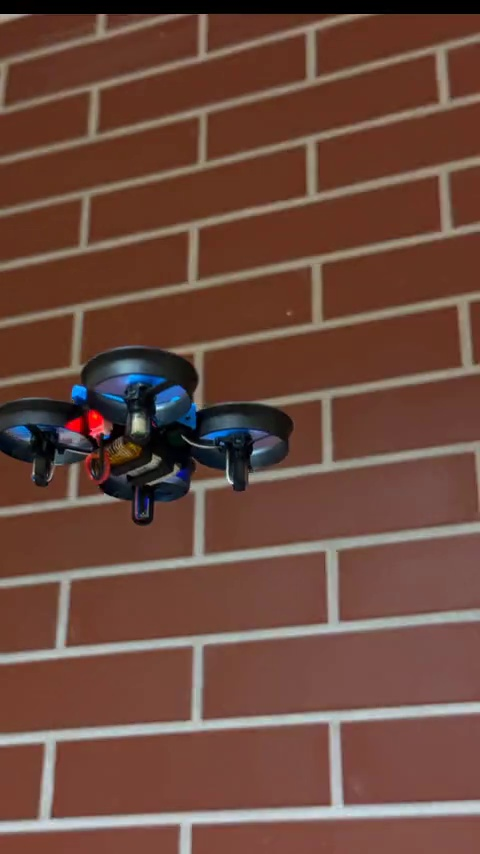drone: (1, 347, 294, 527)
